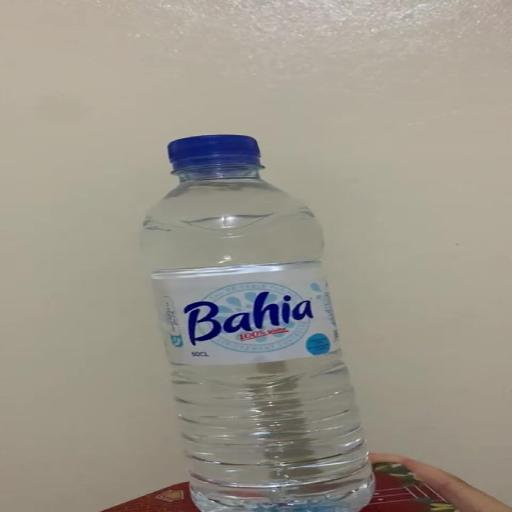bouteille conformite: (114, 119, 384, 512)
